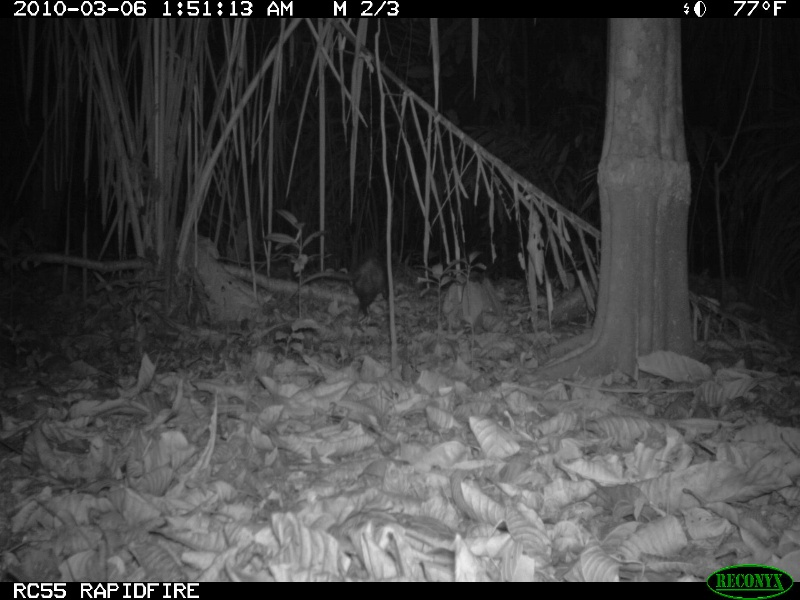opossum: (287, 258, 400, 316)
